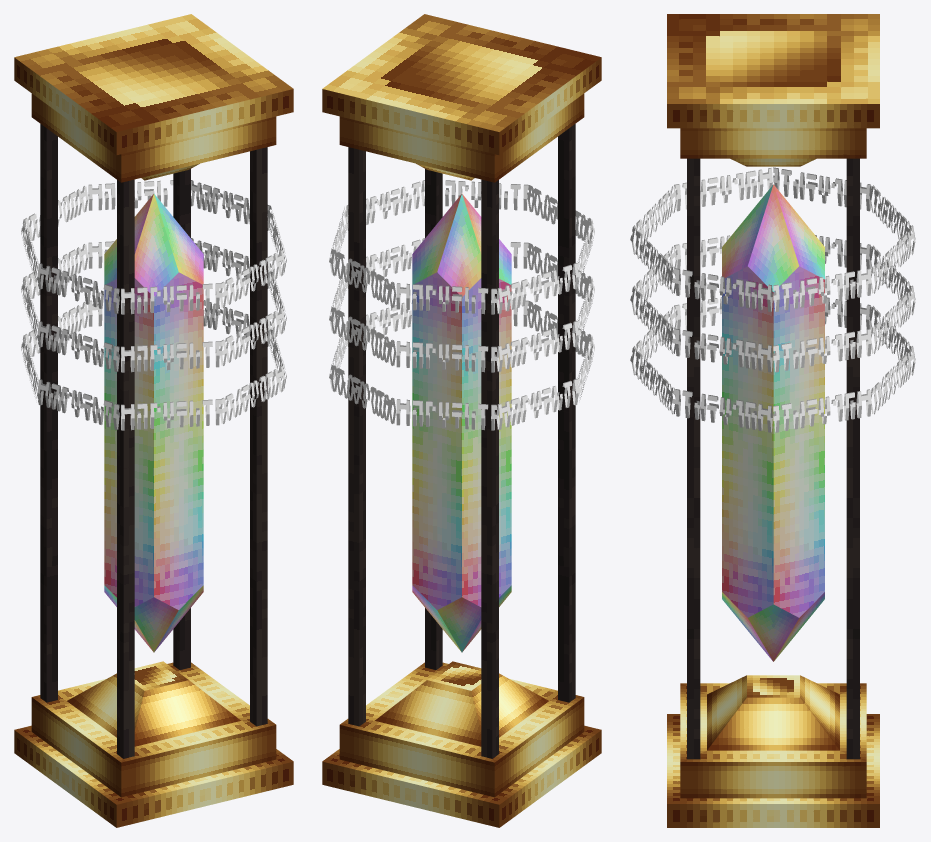
The model's file is matrix_distillate.obj.
3 views of the same model, side by side, from view 1: azimuth 30°, elevation 25°; view 2: azimuth 150°, elevation 25°; view 3: azimuth 270°, elevation 25° (orthographic). The views are drawn at different scales.
Visible parts, largest first — view 1: Base, Crystal, Struts, TextRing03, TextRing02, TextRing01; view 2: Base, Struts, Crystal, TextRing03, TextRing02, TextRing01; view 3: Base, Crystal, Struts, TextRing03, TextRing02, TextRing01.
Part boxes in pixels (box(x1,y1,x2,y2)): Base: box(14, 14, 293, 827); Crystal: box(104, 194, 203, 652); Struts: box(40, 124, 267, 758); TextRing03: box(21, 180, 286, 314); TextRing02: box(21, 238, 286, 372); TextRing01: box(21, 300, 286, 430); Base: box(322, 14, 601, 827); Struts: box(348, 124, 575, 758); Crystal: box(412, 194, 511, 652); TextRing03: box(329, 180, 594, 314); TextRing02: box(329, 238, 594, 372); TextRing01: box(329, 300, 594, 430); Base: box(667, 14, 879, 827); Crystal: box(722, 184, 824, 661); Struts: box(687, 158, 859, 759); TextRing03: box(630, 167, 915, 311); TextRing02: box(630, 235, 915, 372); TextRing01: box(630, 297, 915, 432).
Bounding box in the file's own units: 1.06 × 2.95 × 1.06.
